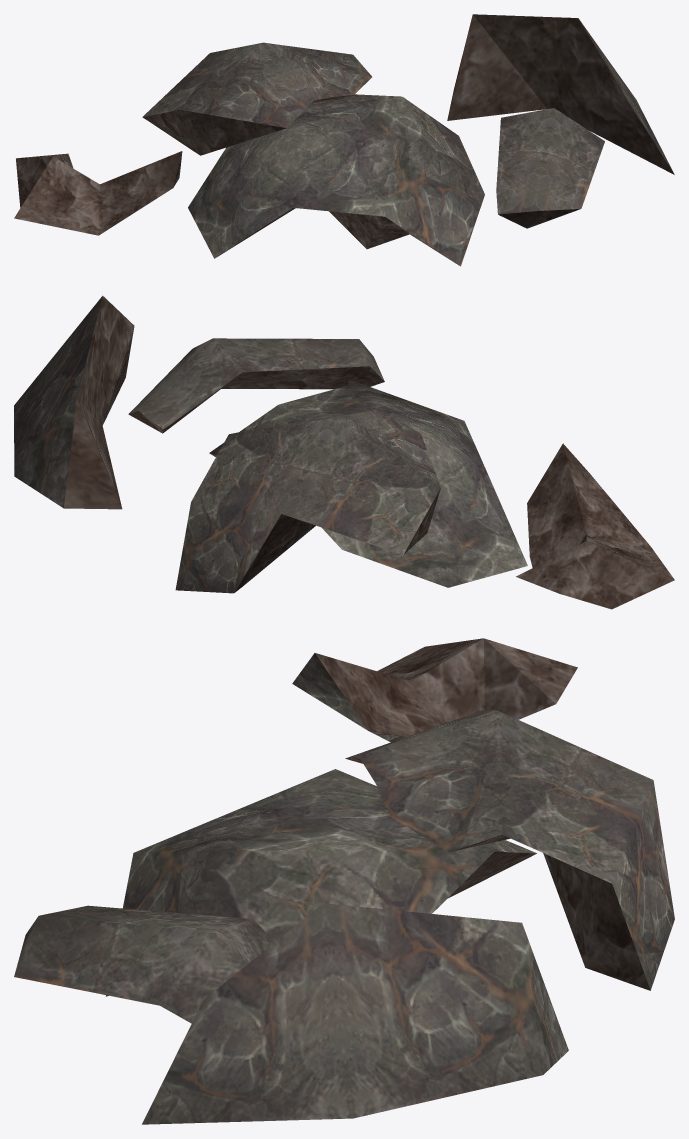
Rendered from common_husong_suishi.FBX.
3 renders of one model, top to bottom at view 1: azimuth 30°, elevation 25°; view 2: azimuth 150°, elevation 25°; view 3: azimuth 270°, elevation 25°, orthographic. The views are drawn at different scales.
Visible parts, largest first — view 1: common_husong_suishi; view 2: common_husong_suishi; view 3: common_husong_suishi.
Boxes of the visible parts, <box> form: common_husong_suishi: <box>14,14,674,266</box>; common_husong_suishi: <box>14,295,674,609</box>; common_husong_suishi: <box>14,638,674,1124</box>.
Size of the model in its own units: 8.59 by 2.15 by 5.27.
